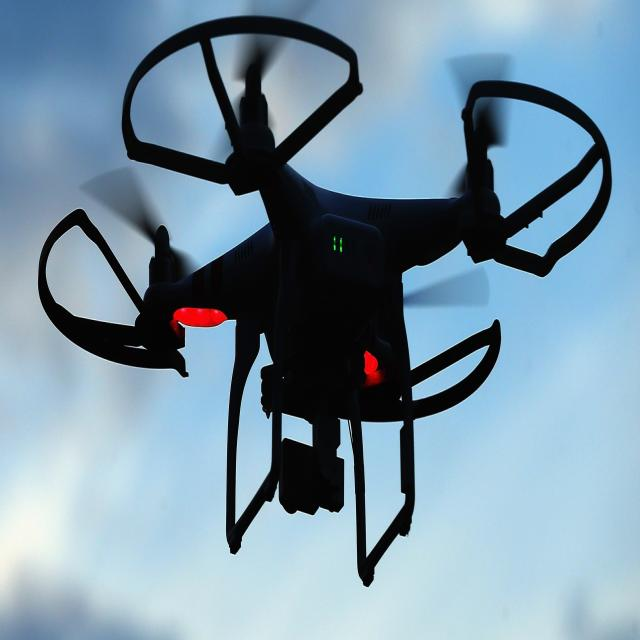drone: (26, 0, 624, 601)
